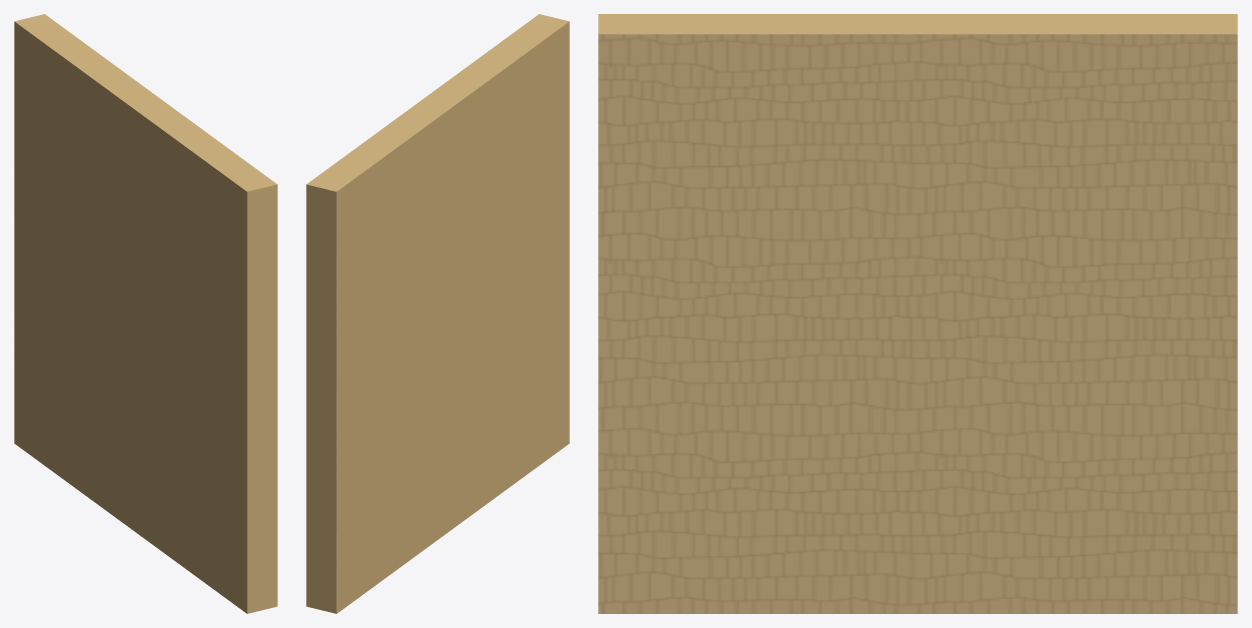
The model's file is parede.fbx.
3 views of the same model, side by side, from view 1: azimuth 30°, elevation 25°; view 2: azimuth 150°, elevation 25°; view 3: azimuth 270°, elevation 25° (orthographic). The views are drawn at different scales.
Visible parts, largest first — view 1: Cube; view 2: Cube; view 3: Cube.
Part boxes in pixels (x1,y1,x2,y2): Cube: (14, 14, 277, 613); Cube: (306, 14, 569, 613); Cube: (598, 14, 1237, 613).
Size of the model in its own units: 15.07 by 200 by 200.
